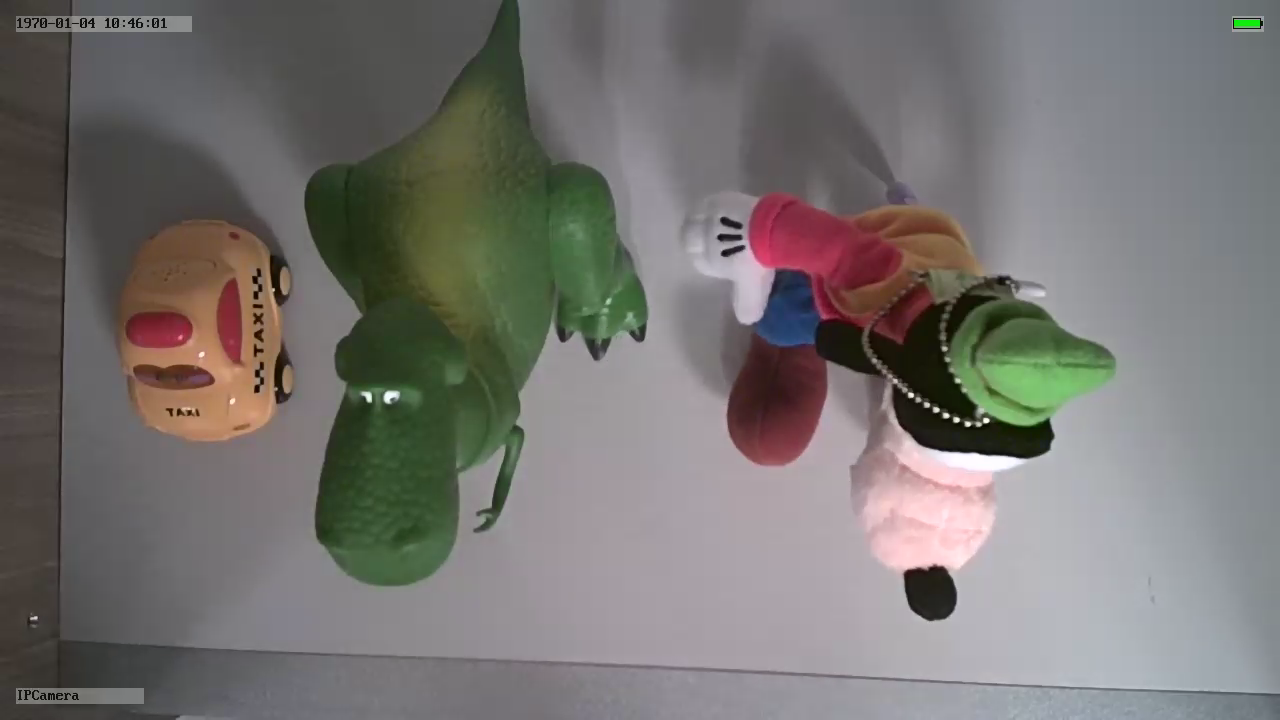goofy: (676, 182, 1120, 623)
